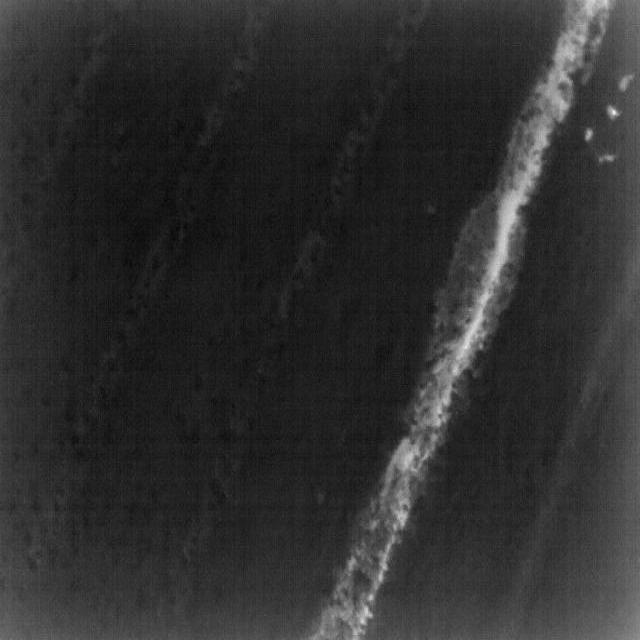deer: (617, 72, 637, 92), (606, 103, 624, 123), (597, 151, 617, 164), (584, 126, 594, 144)
